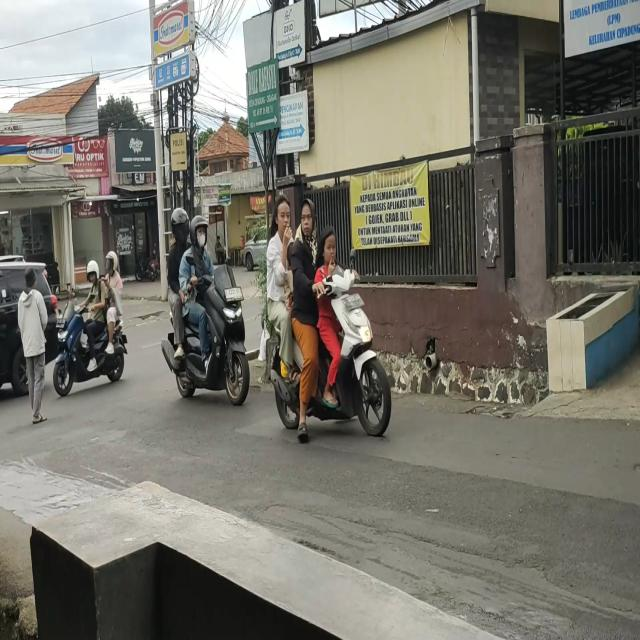helmet: (171, 209, 190, 247), (191, 216, 208, 251), (106, 252, 118, 272), (88, 264, 100, 283)
no-helmet: (300, 201, 316, 237), (276, 195, 290, 233), (320, 228, 335, 262)
